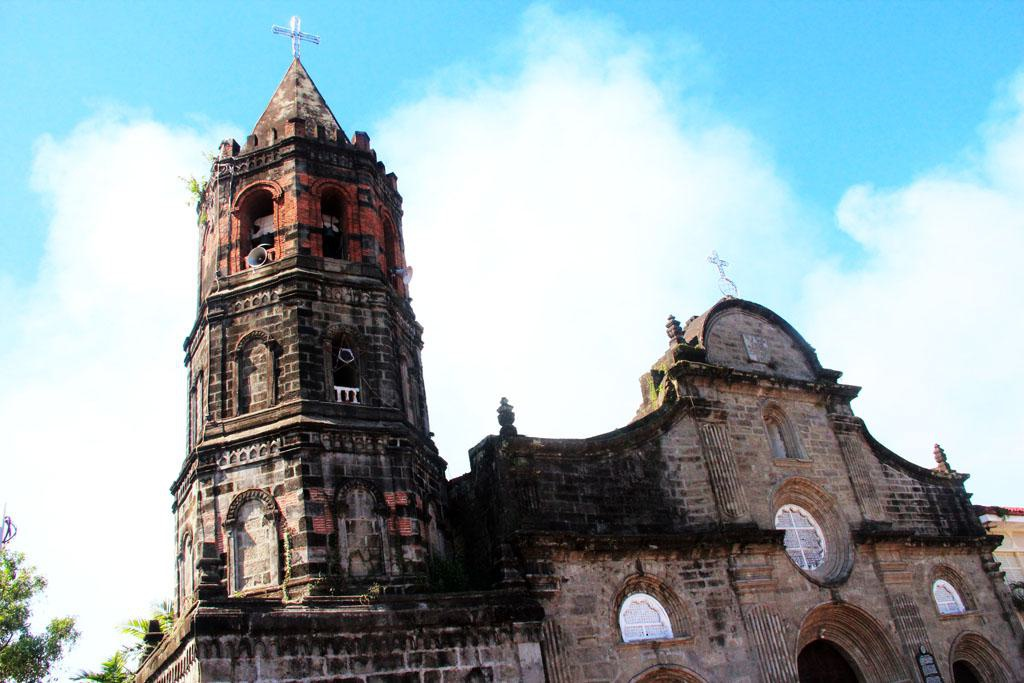barasoain_church_malolos_bulacan: (165, 10, 1024, 683)
